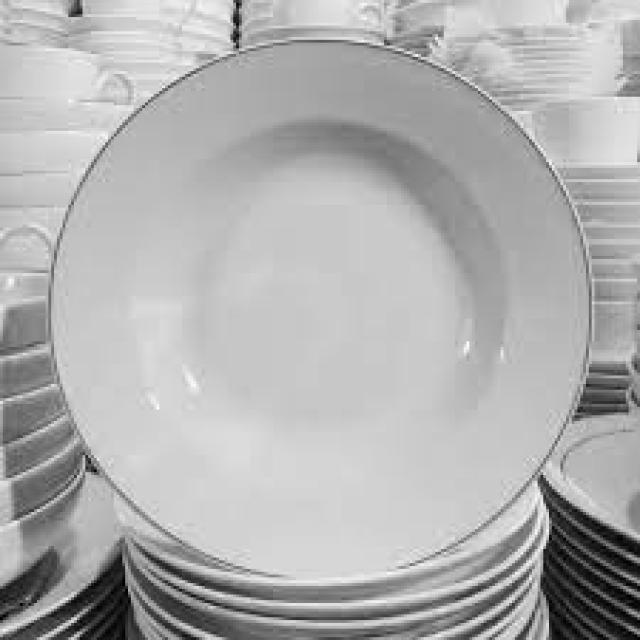dish: (31, 40, 640, 588)
